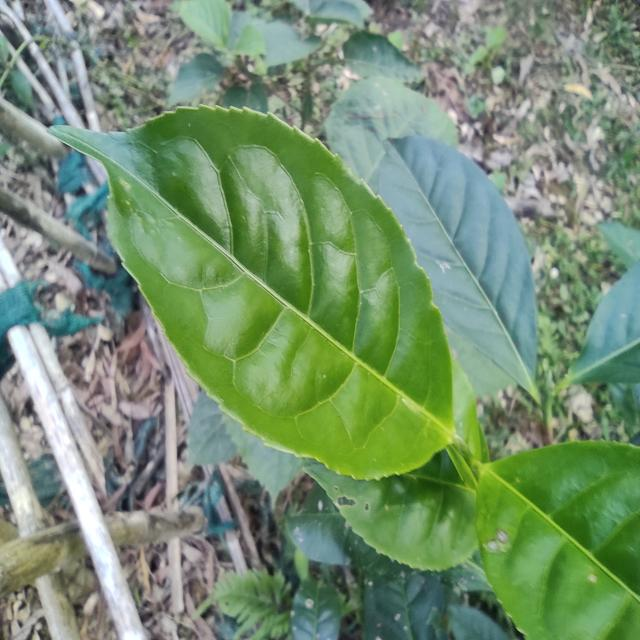Category D(7+ days, Not for Tea): (46, 98, 467, 490)
